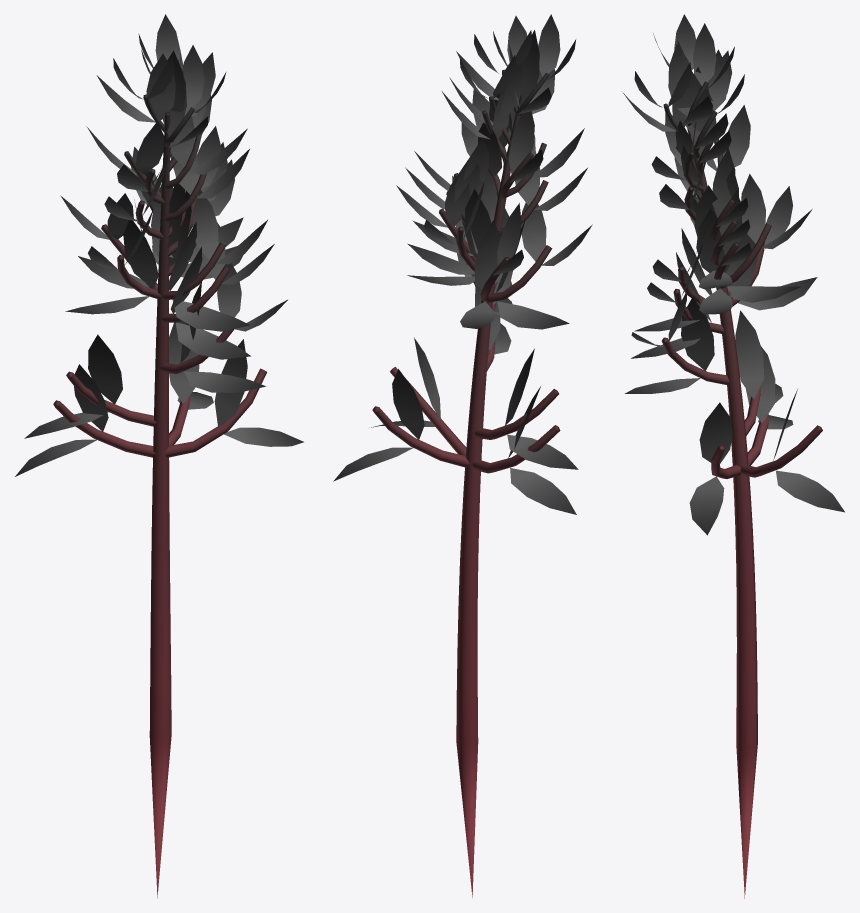
Rendered from plants-bushes-twigs-leafy-twig_v1.glb.
3 renders of one model, left to right at view 1: azimuth 30°, elevation 25°; view 2: azimuth 150°, elevation 25°; view 3: azimuth 270°, elevation 25°, orthographic. The views are drawn at different scales.
Parts seen in each view (by area): view 1: Leafy Twig_v1; view 2: Leafy Twig_v1; view 3: Leafy Twig_v1.
Boxes of the visible parts, x1=… form: Leafy Twig_v1: x1=15, y1=14, x2=303, y2=898; Leafy Twig_v1: x1=333, y1=14, x2=592, y2=897; Leafy Twig_v1: x1=623, y1=14, x2=844, y2=898.
Size of the model in its own units: 0.1784 by 0.6 by 0.1421.
